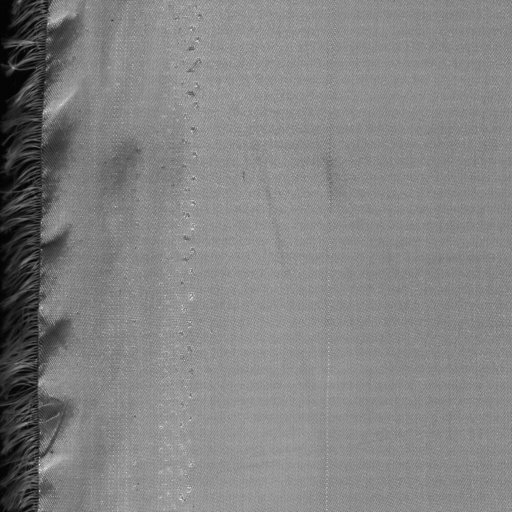defect: (323, 1, 341, 509)
